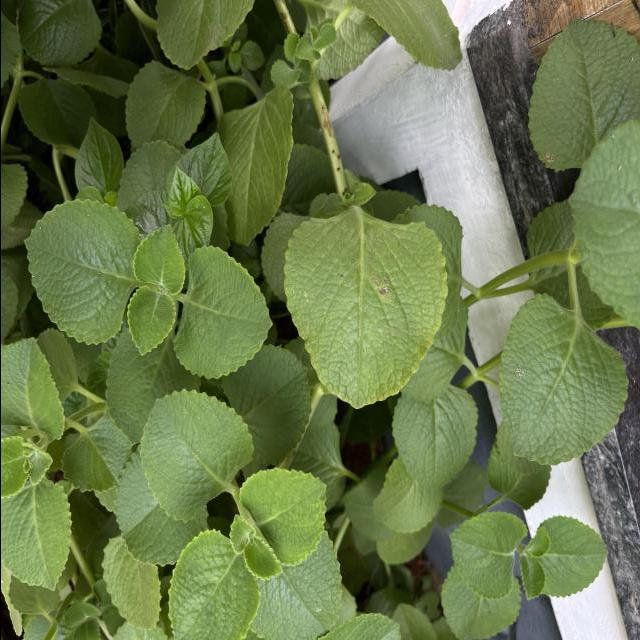Plectranthus barbatus: (279, 211, 448, 413), (496, 292, 628, 468), (525, 15, 640, 174), (22, 197, 138, 347), (138, 388, 254, 524), (172, 244, 274, 382), (218, 82, 294, 248), (222, 340, 310, 468), (166, 527, 261, 640), (390, 383, 480, 490), (238, 466, 328, 568), (0, 475, 72, 593), (123, 58, 206, 156), (447, 508, 528, 602), (0, 333, 65, 441), (531, 514, 608, 598), (15, 0, 104, 68), (59, 412, 132, 494), (100, 536, 162, 632), (439, 568, 521, 640), (371, 454, 444, 534), (132, 222, 184, 298), (125, 284, 176, 358), (242, 536, 282, 582), (518, 555, 546, 601)
